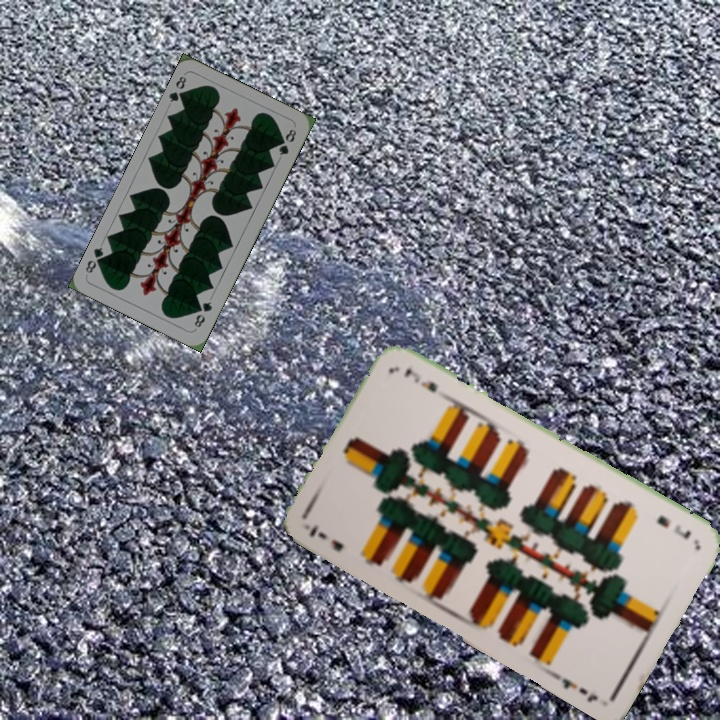E7: (305, 520, 346, 554), (653, 511, 694, 542)
G8: (190, 297, 215, 332), (165, 72, 190, 105)
